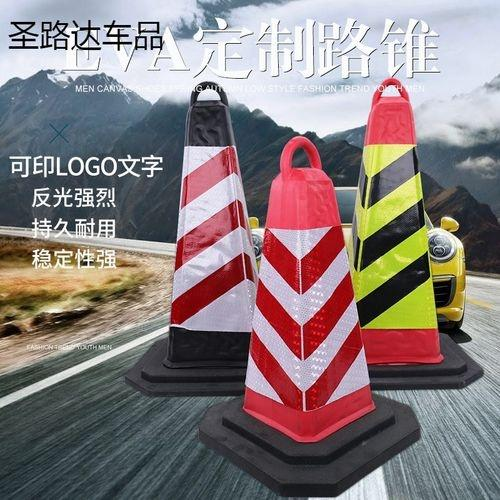cone_barrel: (227, 138, 385, 468), (337, 85, 457, 378), (144, 95, 258, 377)
